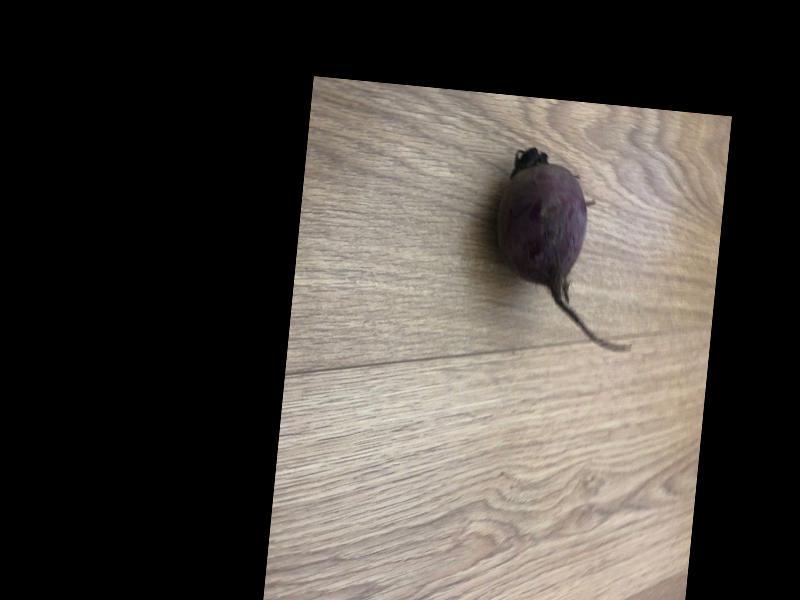Beet: (484, 148, 648, 356)
